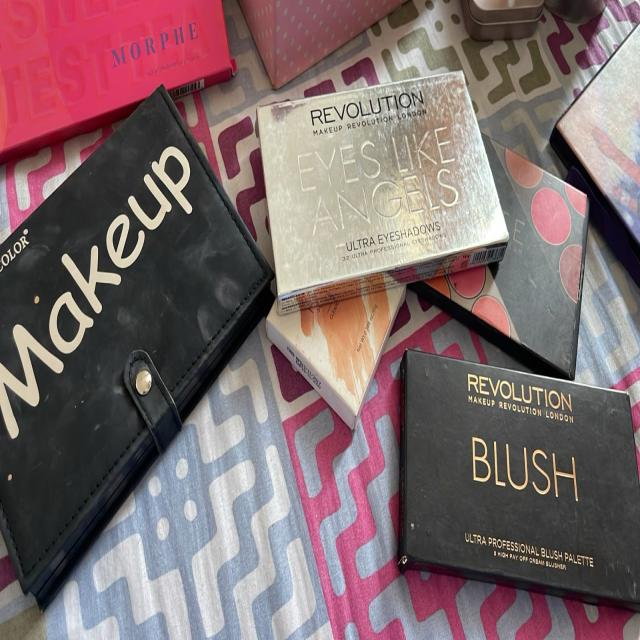makeup: (0, 78, 266, 607), (253, 45, 517, 327), (392, 332, 640, 628)
